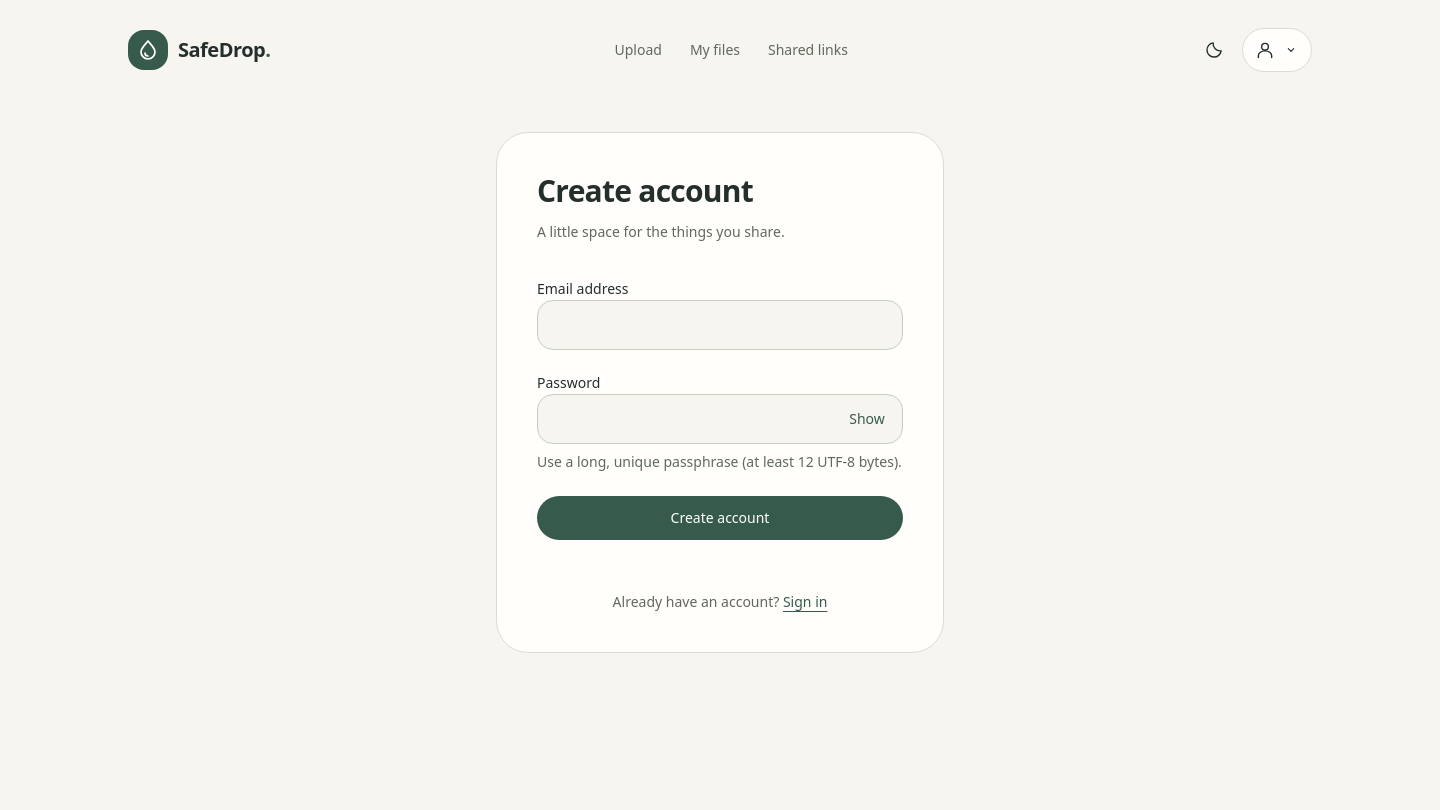
Scenario: shows password guidance and registers without loading Turnstile when unset
Type "person@example.com" into the field labelled "Email address".
click(720, 325); type("person@example.com")  # box 537,300 -> 903,350
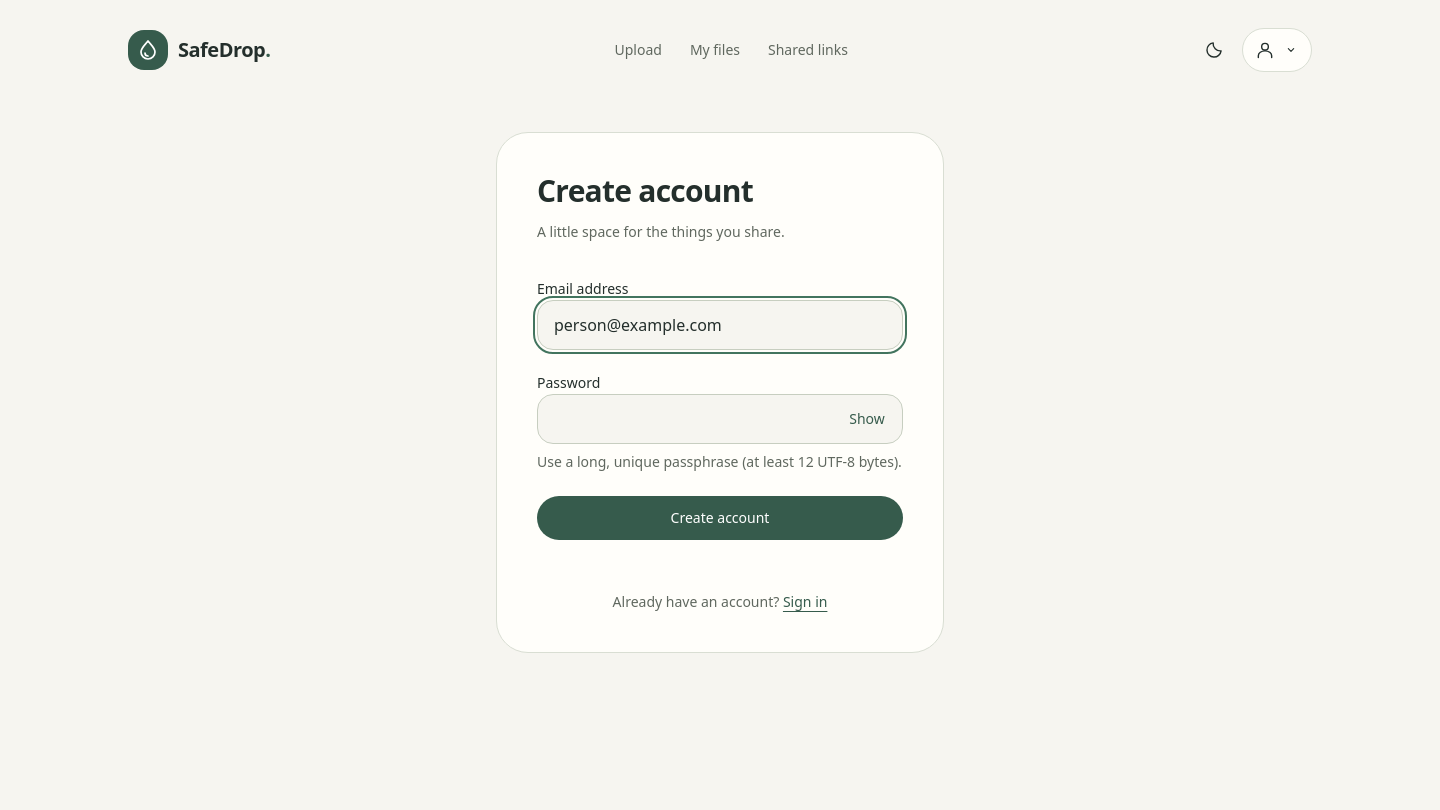
Type "short" into the password field labelled "Password".
click(720, 419); type("short")  # box 537,394 -> 903,444
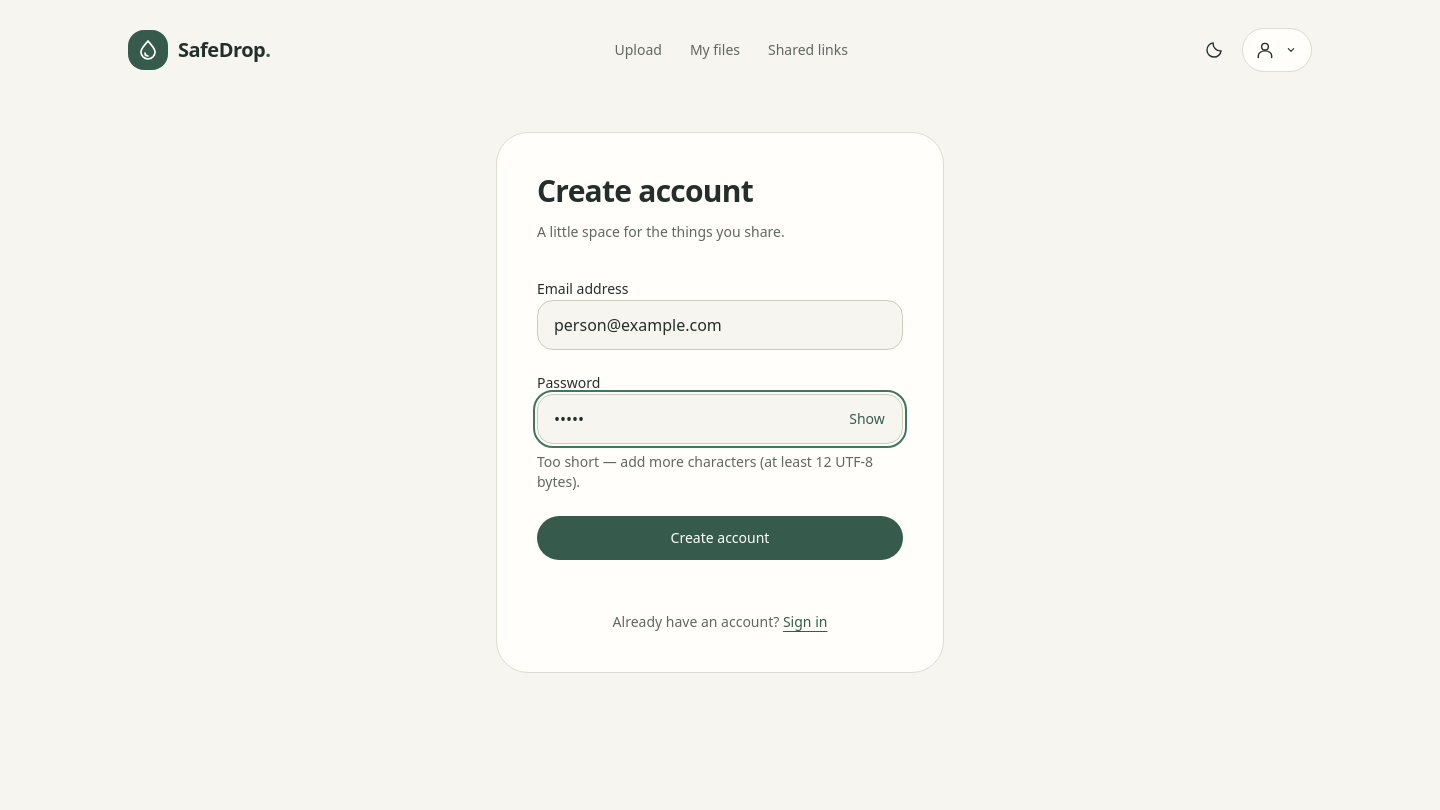
Now the text "Too short — add more characters (at least 12 UTF-8 bytes)." is shown, box 537,452 -> 903,492
Click the button "Create account".
click(720, 538)  # box 537,516 -> 903,560
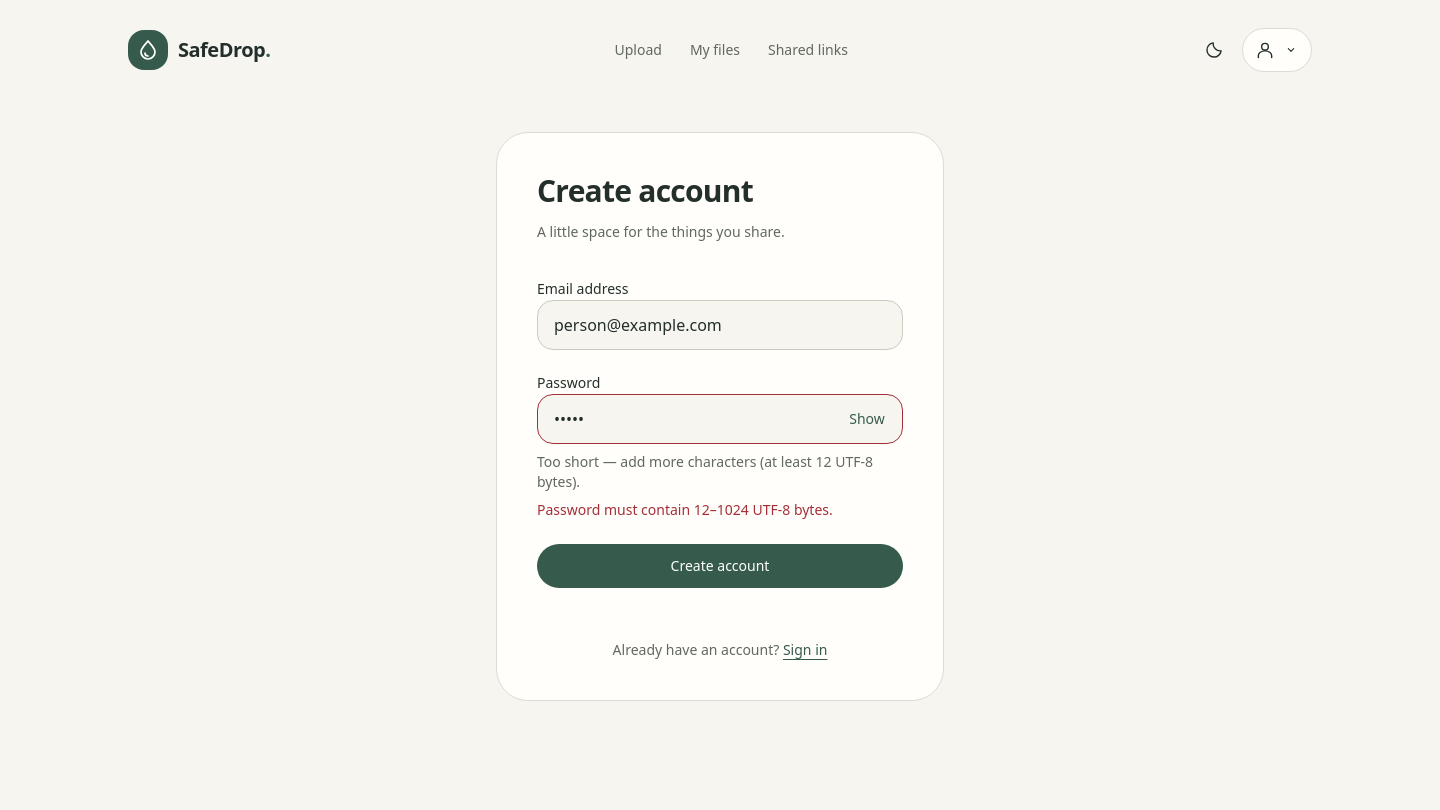
Now the text "Password must contain 12–1024 UTF-8 bytes." is shown, box 537,500 -> 833,519
Type "a long unique passphrase" into the password field labelled "Password".
click(720, 419); type("a long unique passphrase")  # box 537,394 -> 903,444
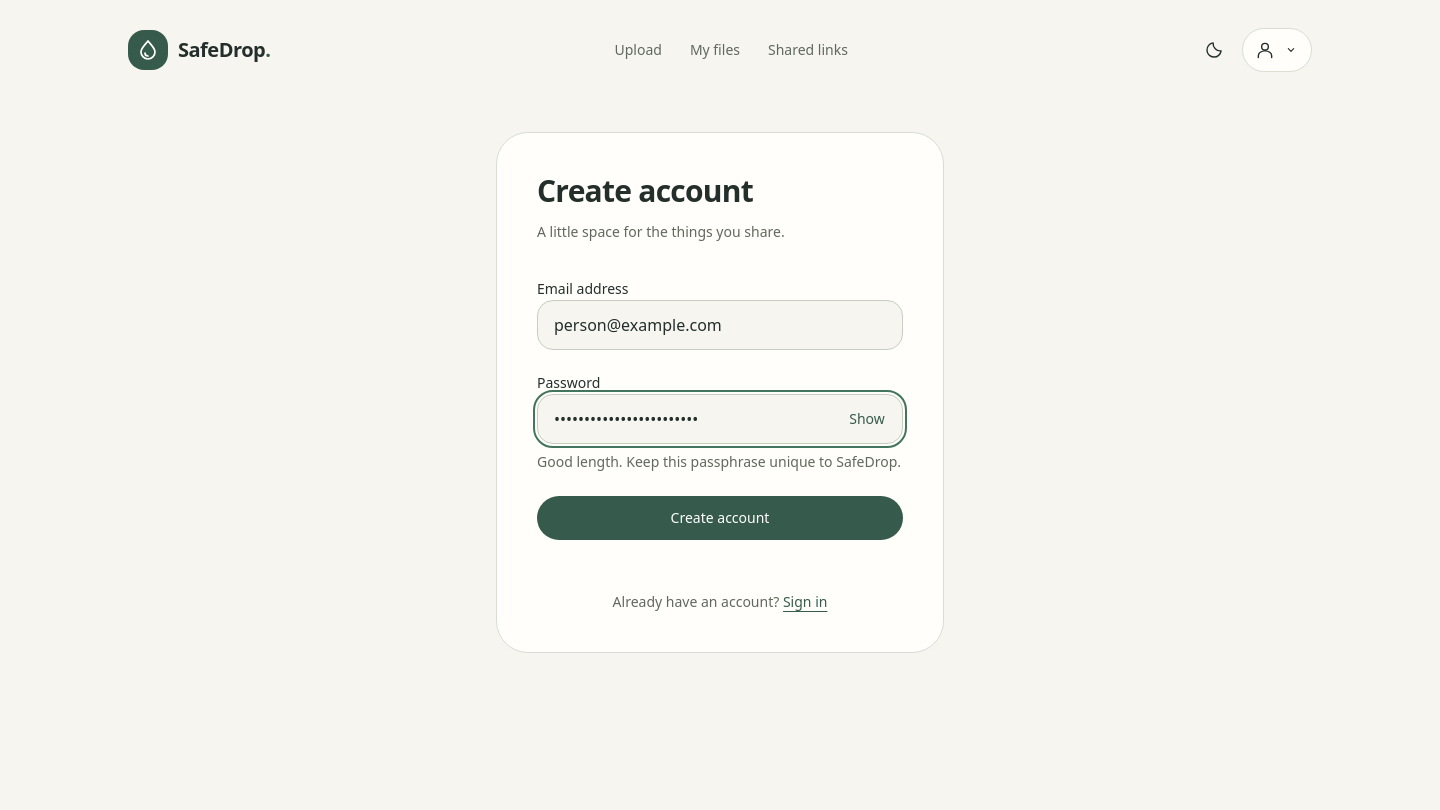
Click the button named "Show password".
click(867, 419)  # box 835,398 -> 899,440
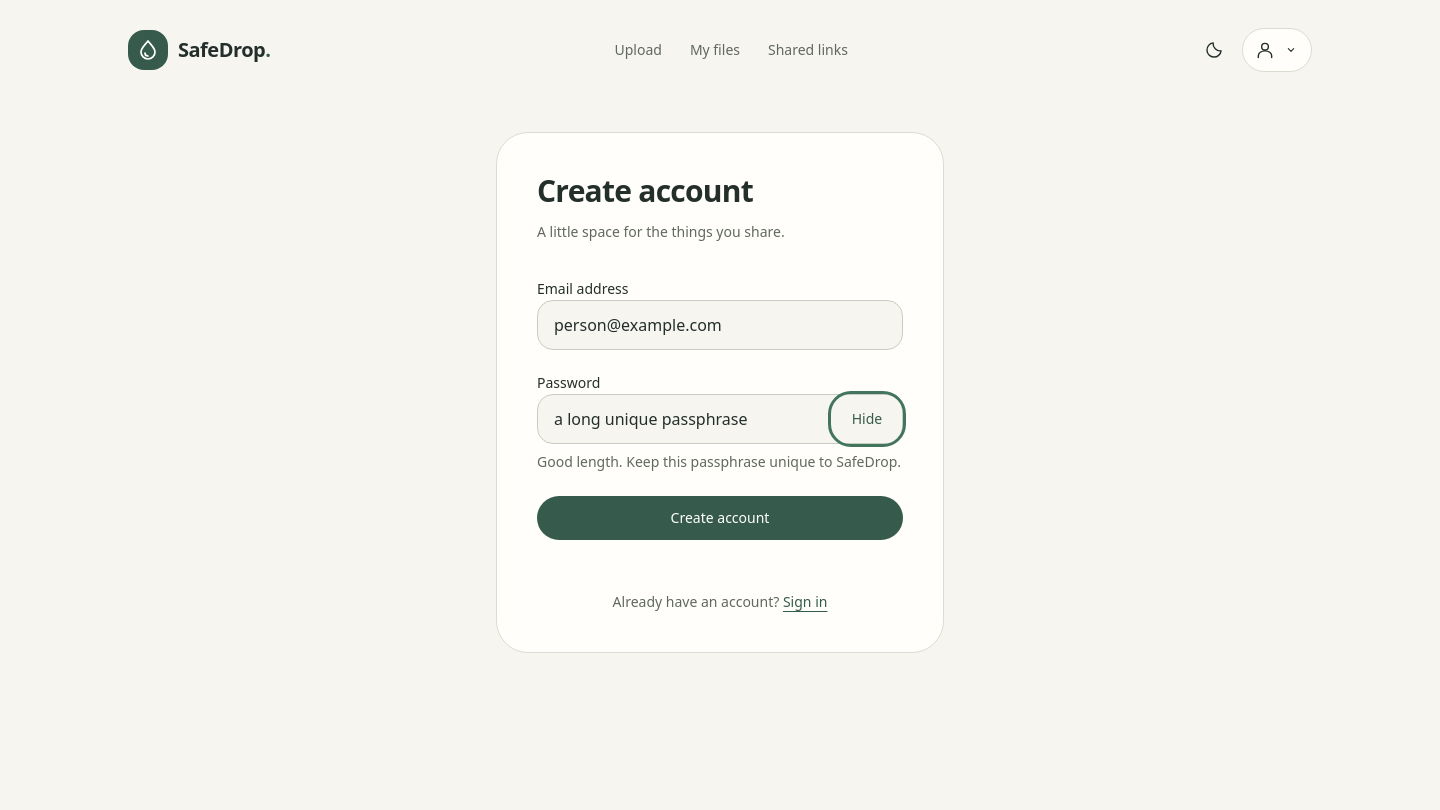
Now the field labelled "Password" shows its text, box 537,394 -> 903,444
Click the button "Create account".
click(720, 518)  # box 537,496 -> 903,540
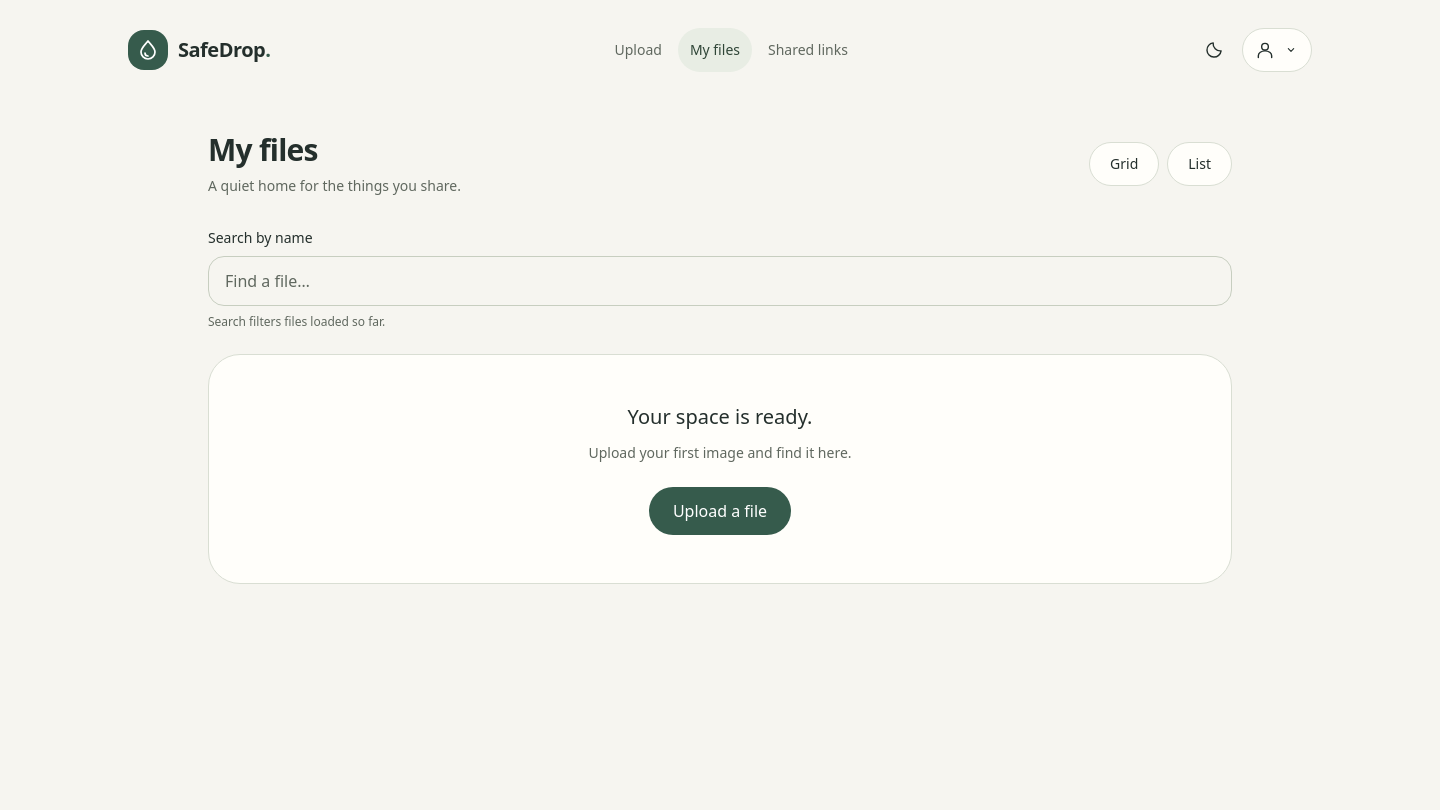
Now the heading "My files" is shown, box 208,129 -> 318,170
